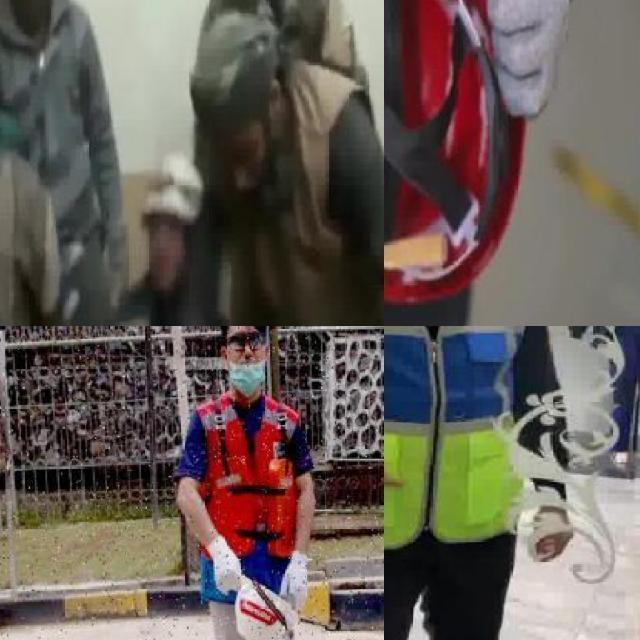apron: (466, 0, 570, 123), (207, 534, 244, 596), (276, 550, 310, 612)
